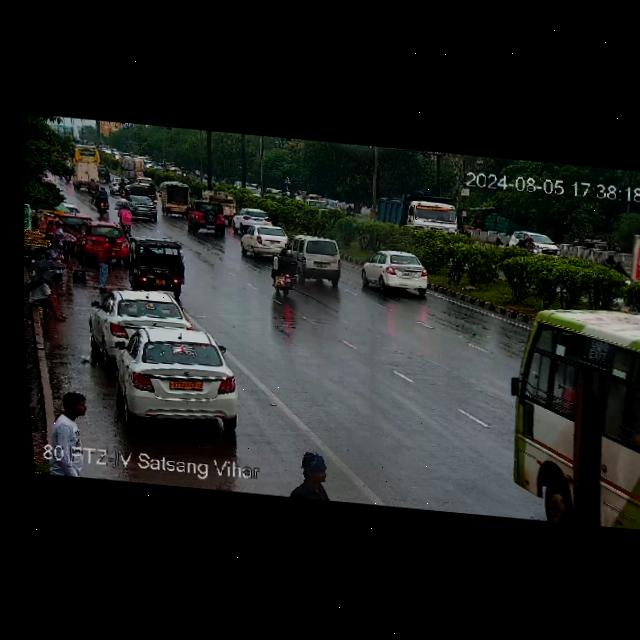bus: (497, 323, 640, 529), (393, 197, 463, 238), (624, 221, 640, 291), (73, 145, 103, 164)
car: (92, 321, 248, 431), (88, 285, 194, 362), (123, 236, 194, 294), (359, 248, 434, 297), (284, 235, 352, 289), (236, 224, 292, 261), (77, 222, 131, 260), (187, 200, 234, 236), (158, 183, 193, 216), (117, 194, 162, 219), (236, 206, 278, 223), (328, 199, 345, 217), (129, 183, 150, 196), (131, 173, 151, 186), (263, 185, 283, 196), (109, 175, 120, 192)
motorcycle: (266, 248, 306, 296), (90, 187, 115, 216), (117, 202, 133, 232), (144, 182, 159, 201), (116, 178, 127, 196)
person: (46, 391, 98, 450), (294, 454, 341, 501), (25, 277, 71, 319), (53, 224, 83, 271), (98, 231, 117, 282)
truck: (71, 162, 104, 191), (199, 189, 239, 207), (301, 194, 329, 214)
